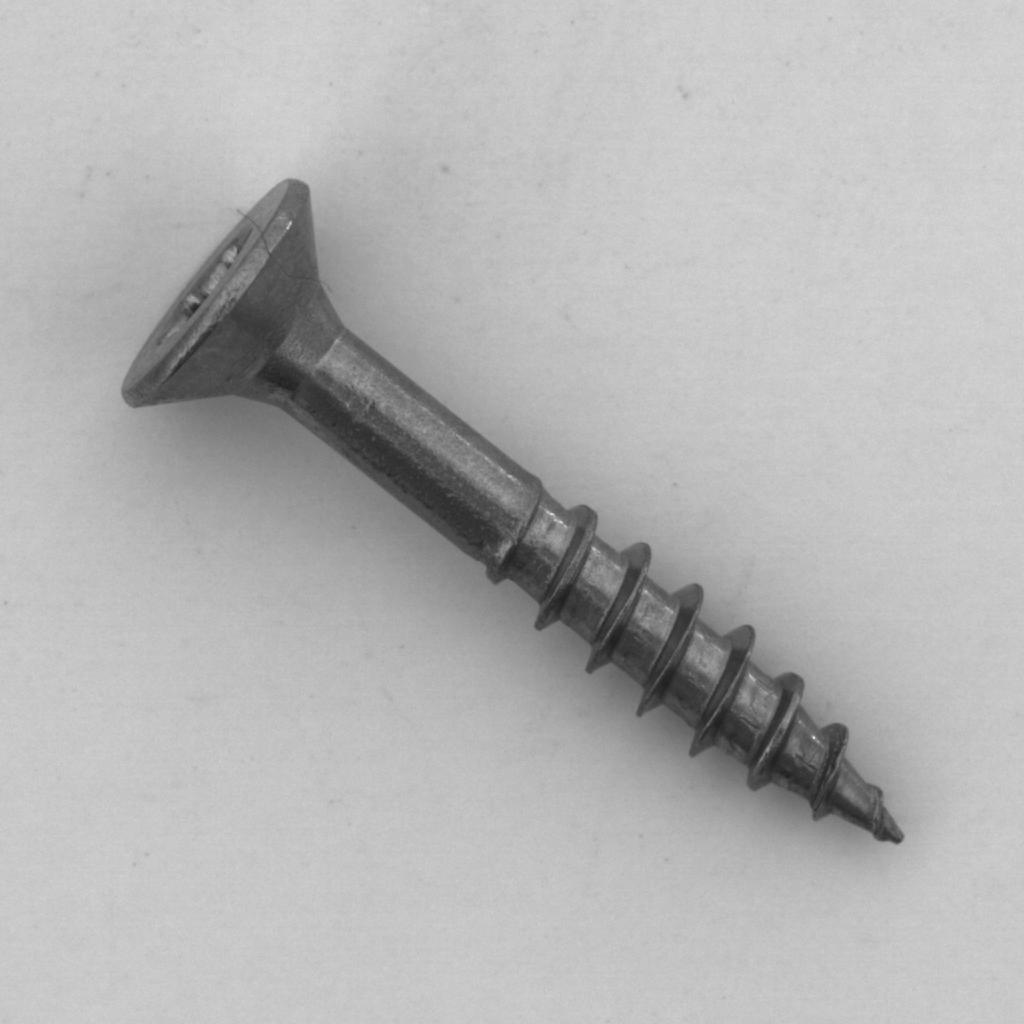good: (109, 164, 934, 866)
